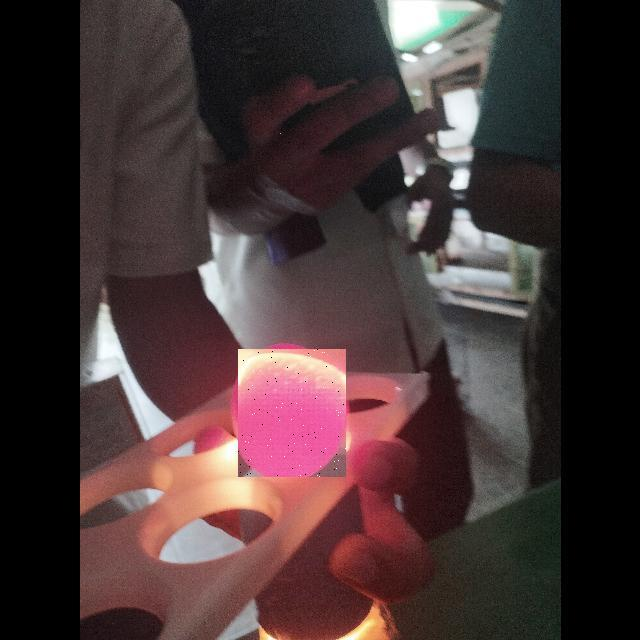Infertile: (238, 349, 346, 477)
